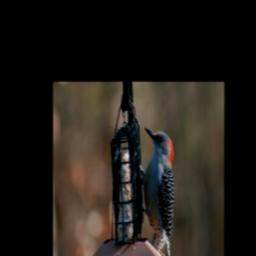Woodpecker: (137, 123, 174, 256)
